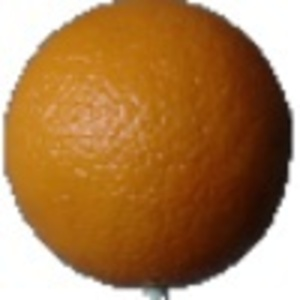laranja: (4, 3, 295, 289)
